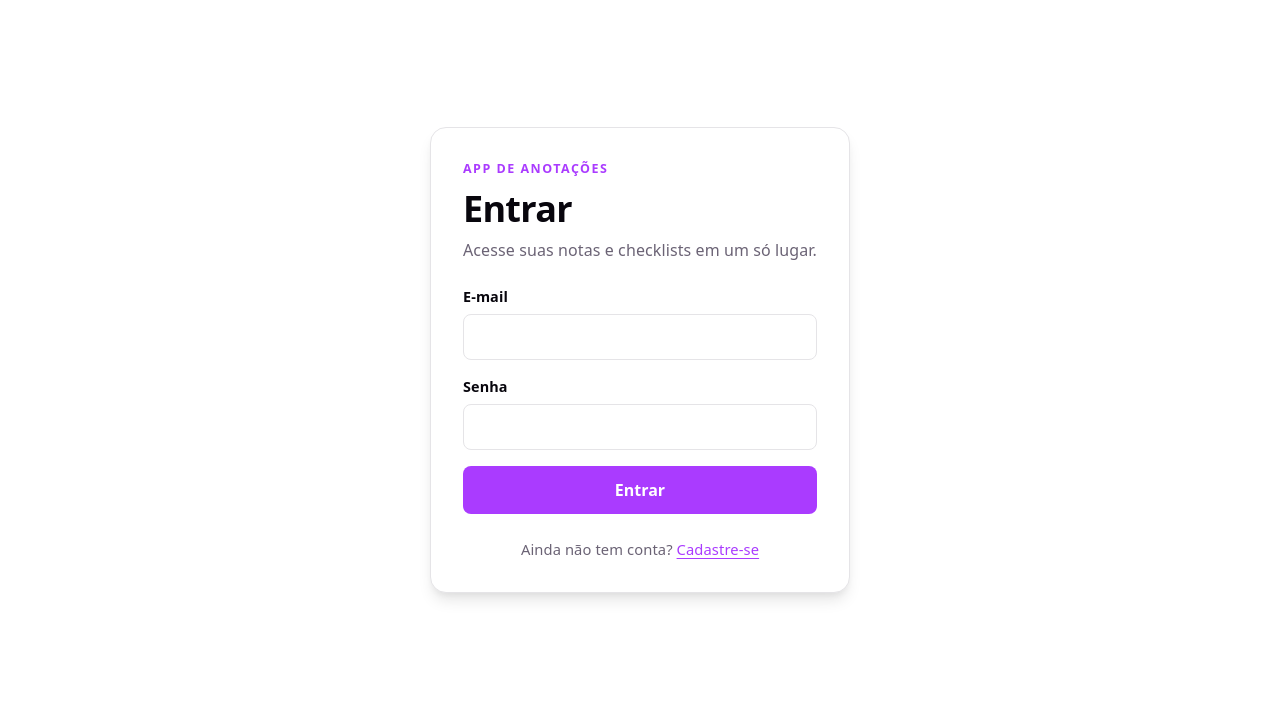
autenticação › login válido salva a sessão sem senha e redireciona para a área de páginas
Type "usuario@exemplo.com" into the field labelled "E-mail" at (640, 337), box [463,314,817,360]
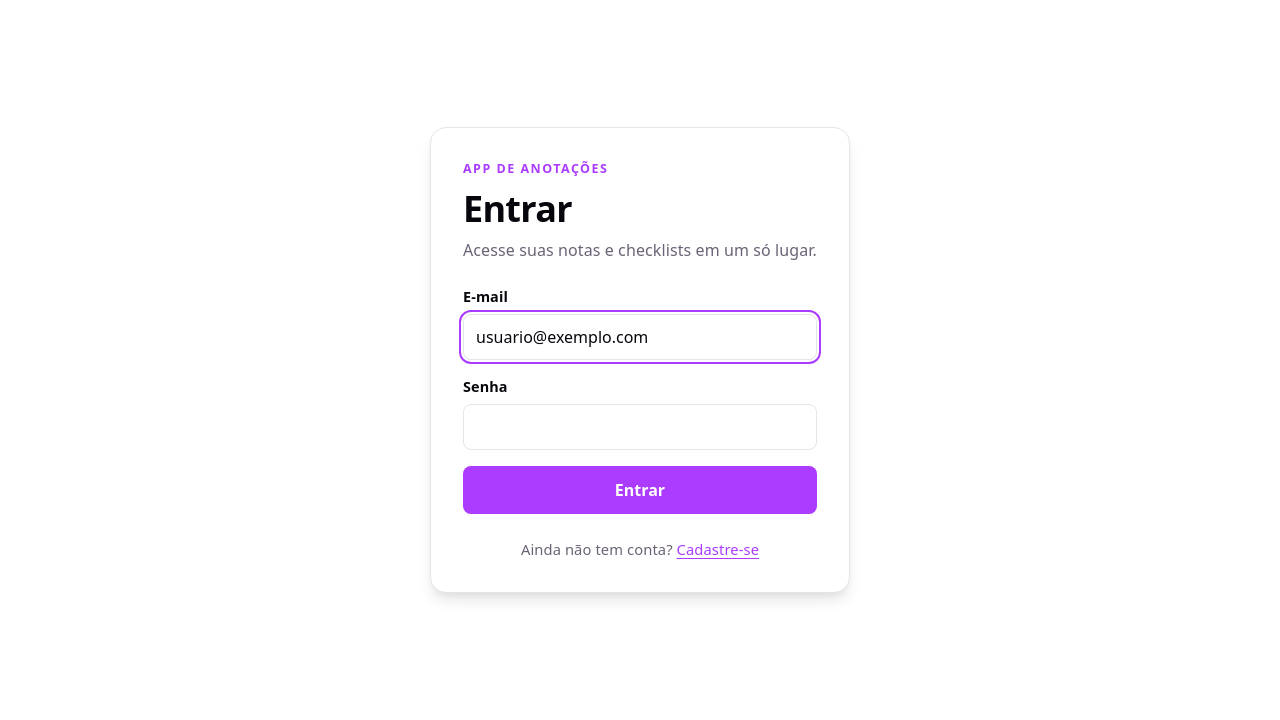
Type "123456" into the password field labelled "Senha" at (640, 426), box [463,404,817,450]
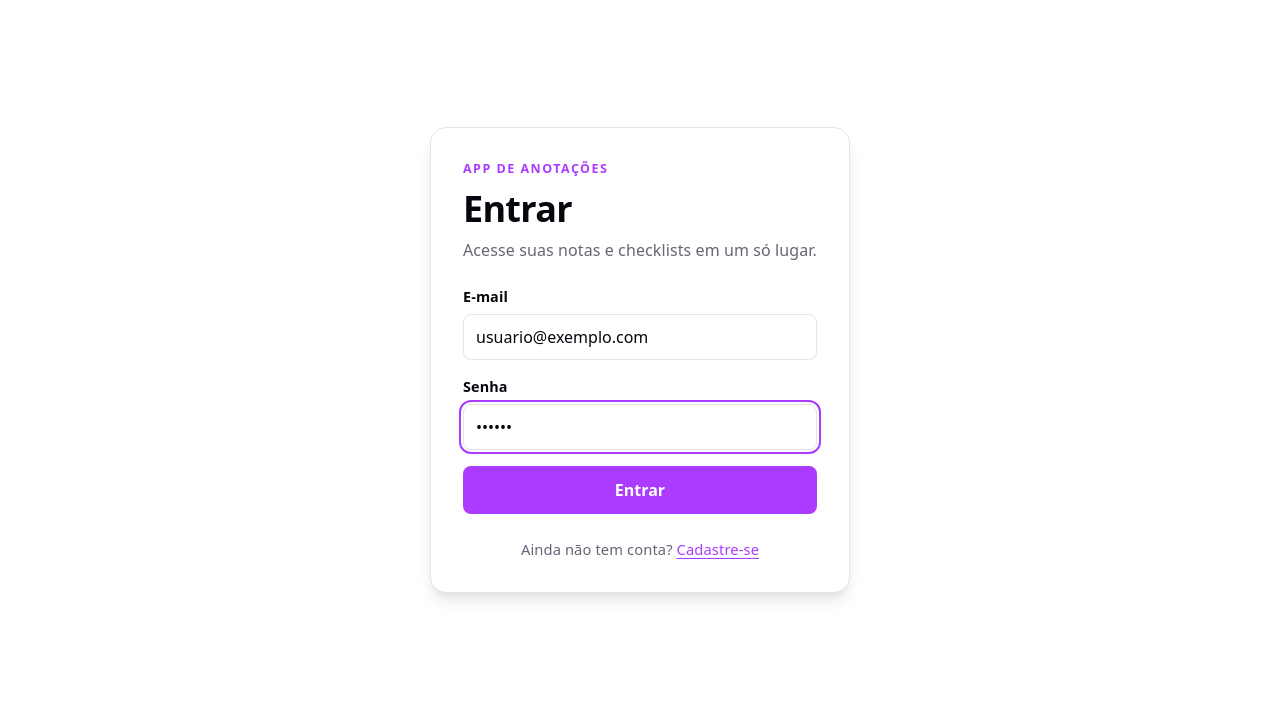
Click the button "Entrar" at (640, 490), box [463,466,817,514]
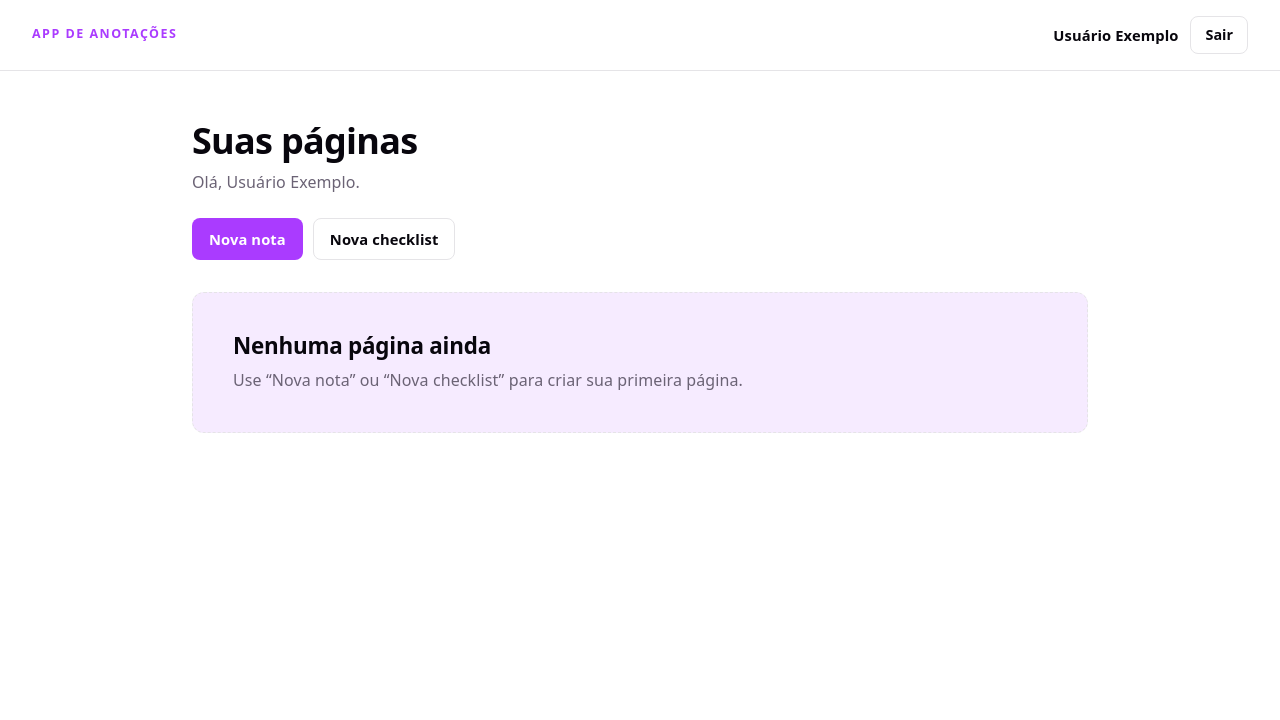
Now the heading "Suas páginas" is shown, box [192,116,417,165]
Now the text "Olá, Usuário Exemplo." is shown, box [192,171,360,193]
